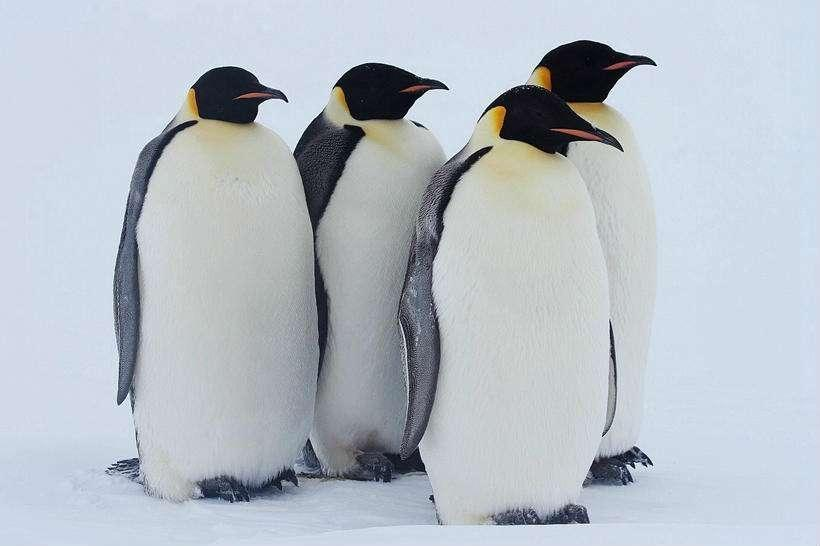Penguin: (398, 85, 620, 523), (111, 67, 319, 501), (295, 62, 447, 480), (529, 40, 655, 484)
